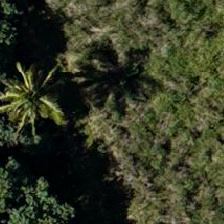Kelapa_Sawit: (0, 54, 74, 144)
